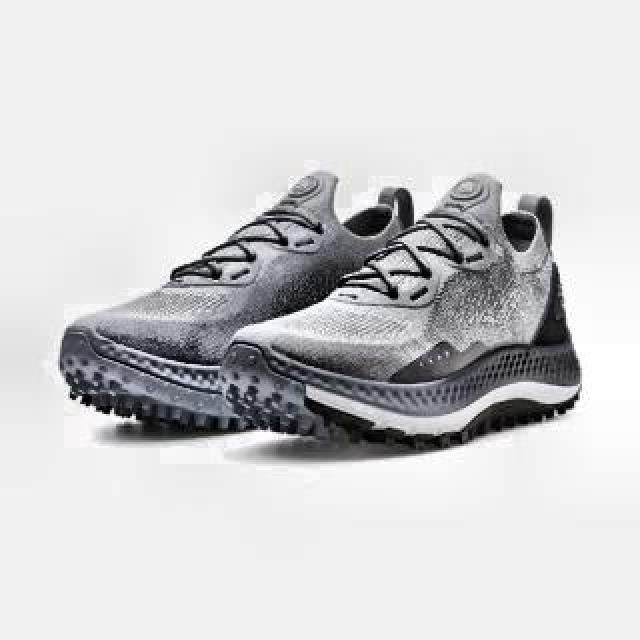shoe: (220, 173, 580, 449), (60, 172, 440, 432)
